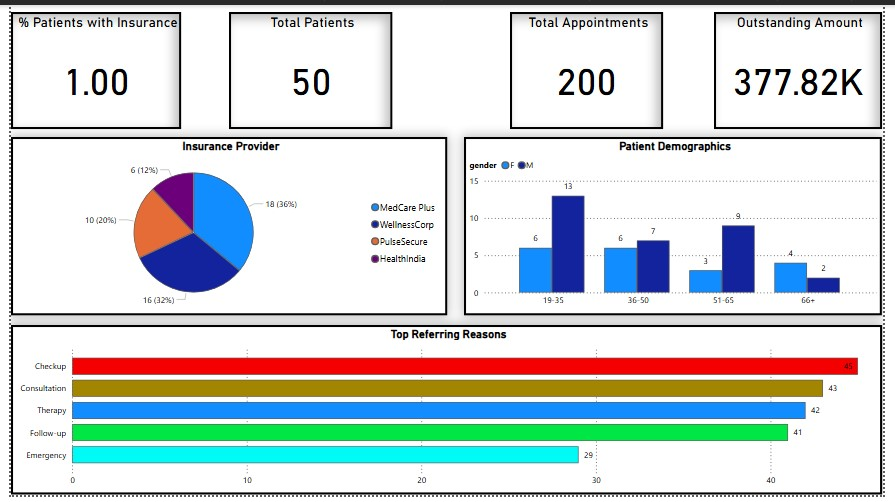

This screenshot's page, from the dashboard's own definition file:
{"tool":"powerbi","page":{"name":"Patients","canvas":[1280,720],"ordinal":5},"visuals":[{"type":"clusteredColumnChart","title":"Patient Demographics","fields":{"Category":["patients.AgeGroup"],"Series":["patients.gender"],"Y":["CountNonNull(patients.patient_id)"]},"box":[665.6,194,614.2,261.6],"z":0},{"type":"card","title":"% Patients with Insurance","fields":{"Values":["patients.PercentWithInsurance"]},"box":[0,10.3,249.8,171.9],"z":1},{"type":"clusteredBarChart","title":"Top Referring Reasons","fields":{"Category":["appointments.reason_for_visit"],"Y":["CountNonNull(appointments.patient_id)"]},"box":[0,470.7,1280,249],"z":2},{"type":"card","title":"Total Patients","fields":{"Values":["measurse.Total Patients"]},"box":[320.3,10.3,239.5,171.9],"z":3},{"type":"card","title":"Total Appointments","fields":{"Values":["measurse.Total Appointments"]},"box":[733.4,10.6,224.7,171.6],"z":4},{"type":"card","title":"Outstanding Amount","fields":{"Values":["measurse.Outstanding Amount"]},"box":[1033,10.3,246.9,171.9],"z":5},{"type":"pieChart","title":"Insurance Provider","fields":{"Category":["patients.insurance_provider"],"Y":["CountNonNull(patients.patient_id)"]},"box":[0,194,640.7,261.6],"z":6}]}

Visuals, with their boxes in screenshot pixels (x1, y1, x2, y2), scaled from the page's 1280x720 canvas onto the 895x502 screenshot:
"Patient Demographics" clusteredColumnChart: x1=465, y1=135, x2=894, y2=318
"% Patients with Insurance" card: x1=0, y1=7, x2=175, y2=127
"Top Referring Reasons" clusteredBarChart: x1=0, y1=328, x2=894, y2=501
"Total Patients" card: x1=224, y1=7, x2=391, y2=127
"Total Appointments" card: x1=513, y1=7, x2=670, y2=127
"Outstanding Amount" card: x1=722, y1=7, x2=894, y2=127
"Insurance Provider" pieChart: x1=0, y1=135, x2=448, y2=318
